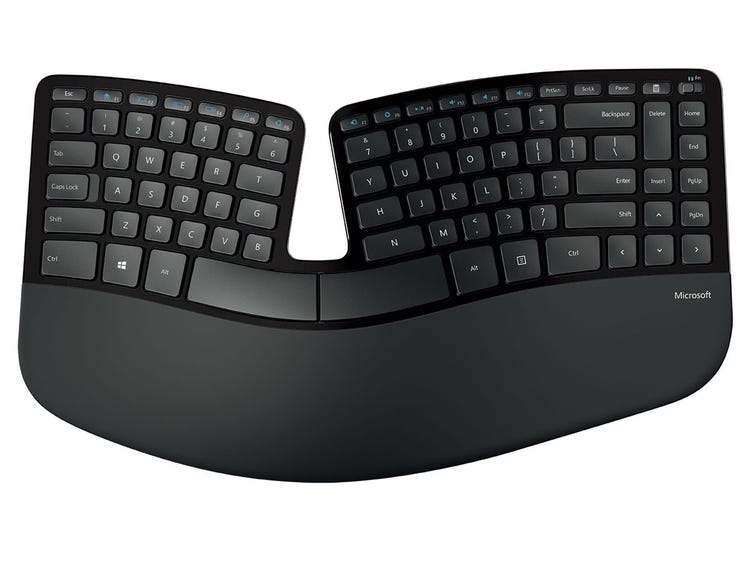keyboard: (14, 41, 737, 487)
